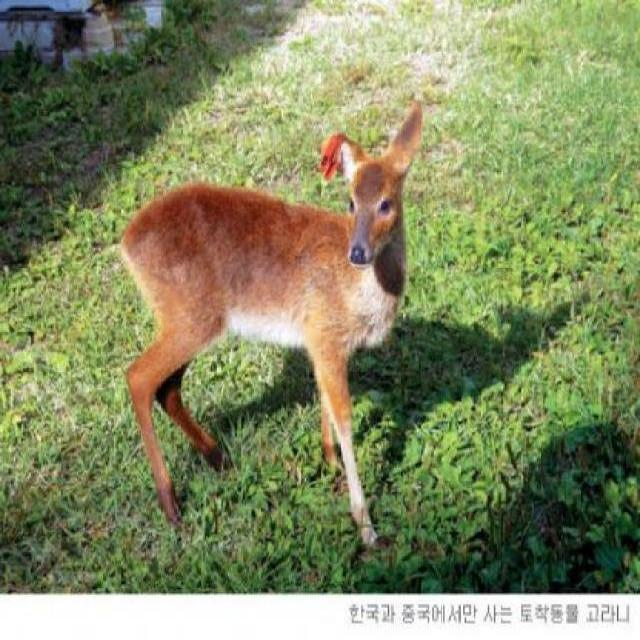deer: (96, 110, 429, 555)
